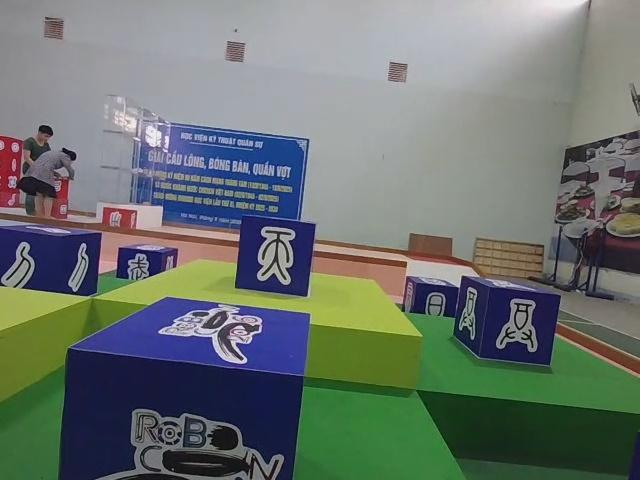R1 Blue: (59, 293, 313, 480)
R2 Fake Blue: (235, 216, 317, 300), (402, 274, 460, 316), (116, 244, 179, 282)
R2 Real Blue: (452, 277, 561, 369), (2, 225, 104, 300)
